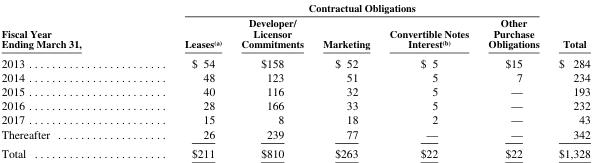table: (0, 1, 589, 159)
table column: (0, 1, 132, 159), (132, 1, 230, 159), (379, 1, 477, 159), (230, 1, 312, 159), (477, 1, 548, 159), (312, 1, 379, 159), (548, 1, 589, 159)
table column header: (0, 1, 589, 52)
table row: (0, 15, 589, 52), (0, 52, 589, 69), (0, 126, 589, 143), (0, 143, 589, 159), (0, 83, 589, 98), (0, 1, 589, 15), (0, 69, 589, 83), (0, 98, 589, 112), (0, 112, 589, 126)
table spanning cell: (0, 1, 132, 52), (132, 1, 548, 15), (548, 1, 589, 52)
